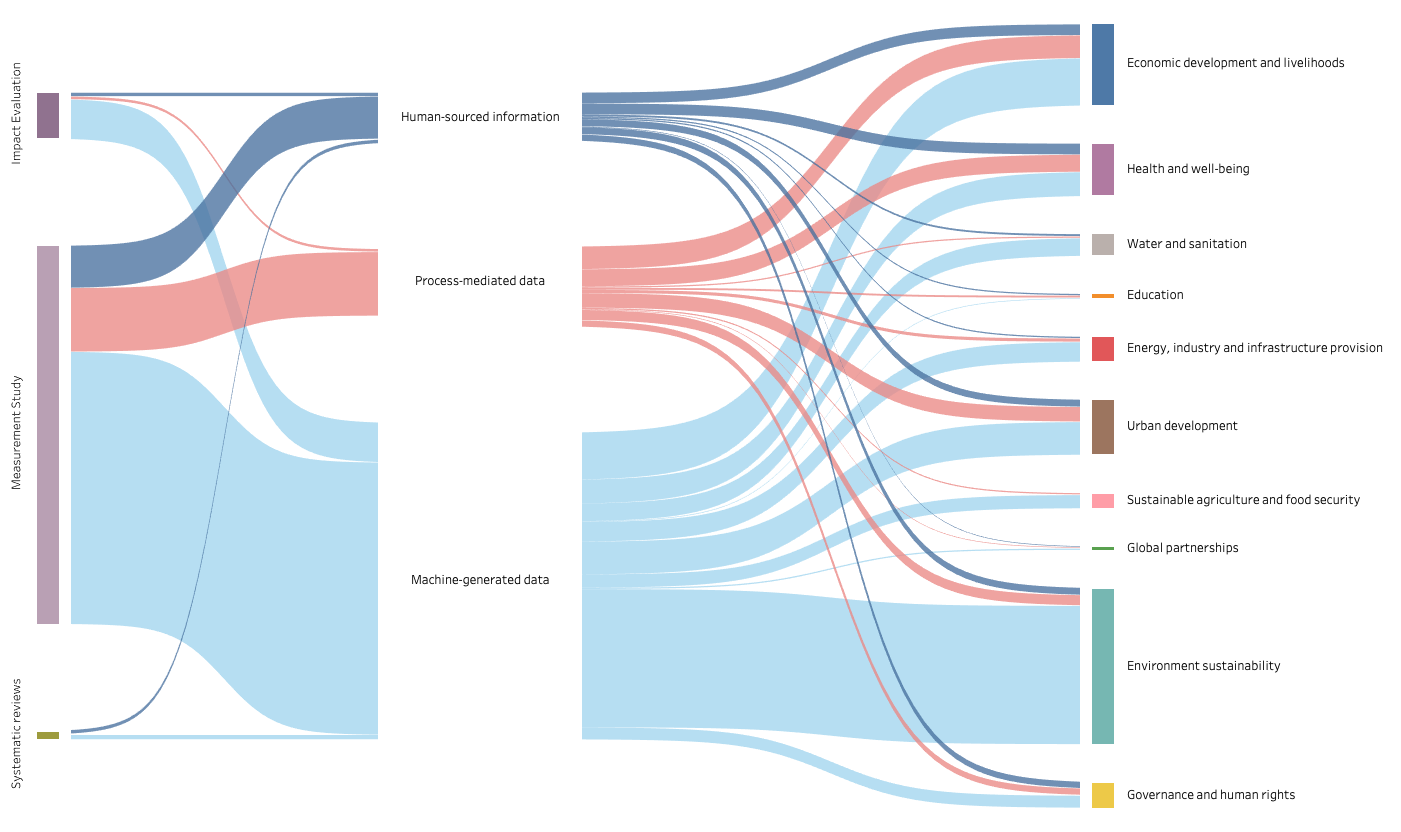

Layout of this report page (visuals, bound fields, positions):
{"tool":"tableau","page":{"name":"Sankey Chart Template","canvas":[1000,1000],"units":"permille","ordinal":0},"visuals":[{"type":"worksheet","title":"Label 1","mark":"GanttBar","rows":["Calculation_5630132859843854368"],"box":[0,0,26,1000]},{"type":"worksheet","title":"Bar 1","mark":"GanttBar","rows":["Calculation_5630132859843854368"],"box":[26,0,26,1000]},{"type":"worksheet","title":"Curve","mark":"Polygon","box":[52.1,0,218.9,1000]},{"type":"worksheet","title":"Label 2","mark":"GanttBar","rows":["Calculation_5630132859856003117"],"box":[270.9,0,135.9,1000]},{"type":"worksheet","title":"Curve (2)","mark":"Polygon","box":[406.8,0,351.5,1000]},{"type":"worksheet","title":"Bar 2 (2)","mark":"GanttBar","rows":["Calculation_5630132859856003117"],"box":[758.3,0,26,1000]},{"type":"worksheet","title":"Label 2 (2)","mark":"GanttBar","rows":["Calculation_5630132859856003117"],"box":[784.4,0,215.6,1000]}]}

Visuals, with their boxes on the dashboard's canvas, which has no fixed pixel size, in thousandths of its width and height (x1, y1, x2, y2). These are canvas units, not pixel positions in the 1401x832 screenshot, which may show the page scaled, cropped or inside an application window:
"Label 1" worksheet (GanttBar marks): detection(0, 0, 26, 1000)
"Bar 1" worksheet (GanttBar marks): detection(26, 0, 52, 1000)
"Curve" worksheet (Polygon marks): detection(52, 0, 271, 1000)
"Label 2" worksheet (GanttBar marks): detection(271, 0, 407, 1000)
"Curve (2)" worksheet (Polygon marks): detection(407, 0, 758, 1000)
"Bar 2 (2)" worksheet (GanttBar marks): detection(758, 0, 784, 1000)
"Label 2 (2)" worksheet (GanttBar marks): detection(784, 0, 1000, 1000)
